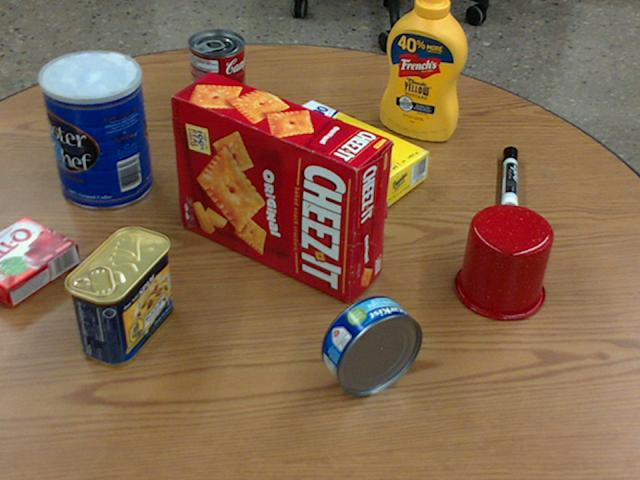cracker_box: (171, 72, 391, 303)
gelatin_box: (0, 215, 76, 305)
large_marker: (502, 146, 519, 213)
master_chef_can: (39, 51, 151, 209)
mug: (453, 203, 553, 319)
mustard_bottle: (381, 0, 467, 139)
potted_meat_can: (63, 225, 170, 364)
sugar_box: (265, 99, 429, 210)
tomato_soup_can: (188, 28, 245, 126)
tuna_fish_can: (322, 296, 422, 395)
